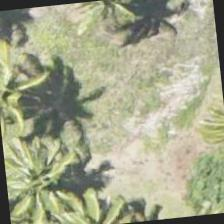Kelapa_Sawit: (2, 123, 86, 220), (0, 46, 50, 141)
